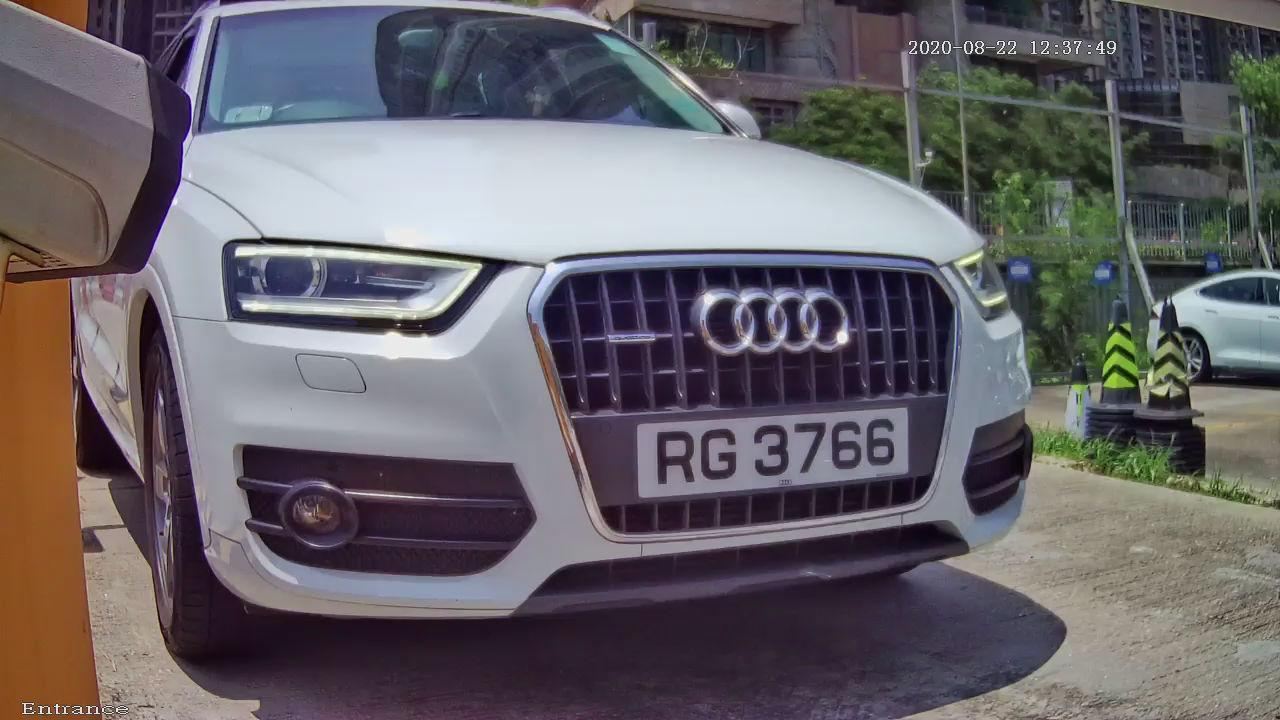Car: (58, 13, 1075, 679)
License Plate: (623, 393, 915, 508)
